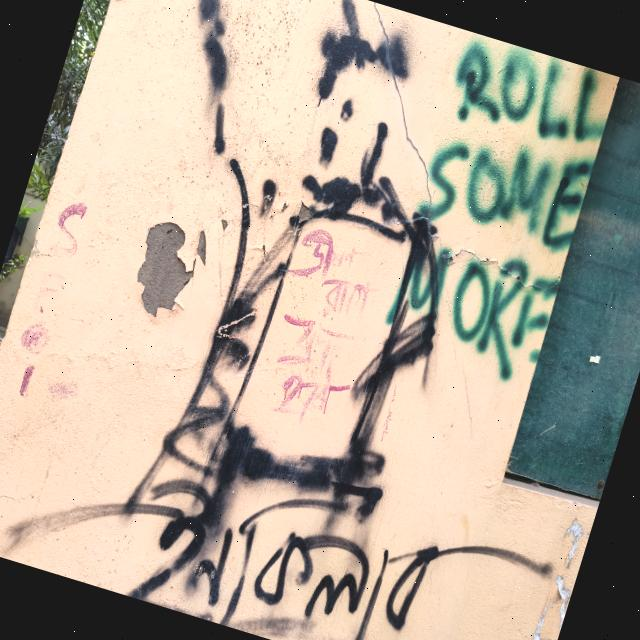peeling: (529, 512, 595, 640), (137, 222, 192, 316)
